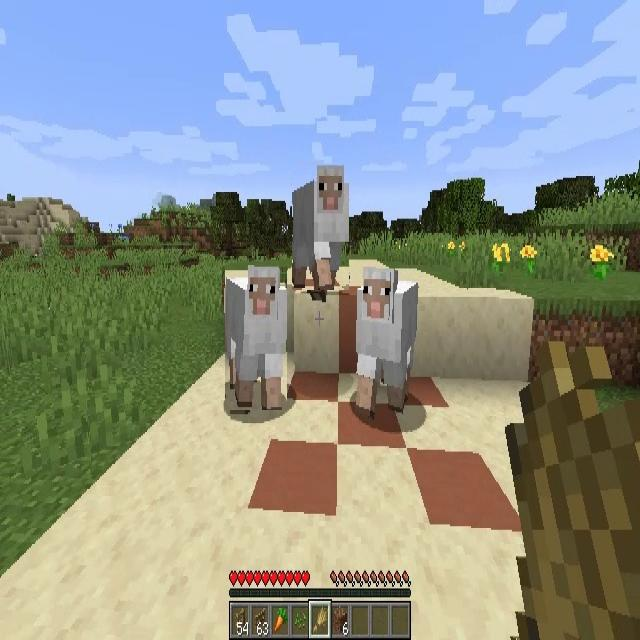flower: (590, 244, 612, 278), (521, 243, 536, 273), (492, 241, 510, 263)
sheep: (354, 268, 417, 418), (225, 265, 287, 410), (292, 164, 349, 290)
